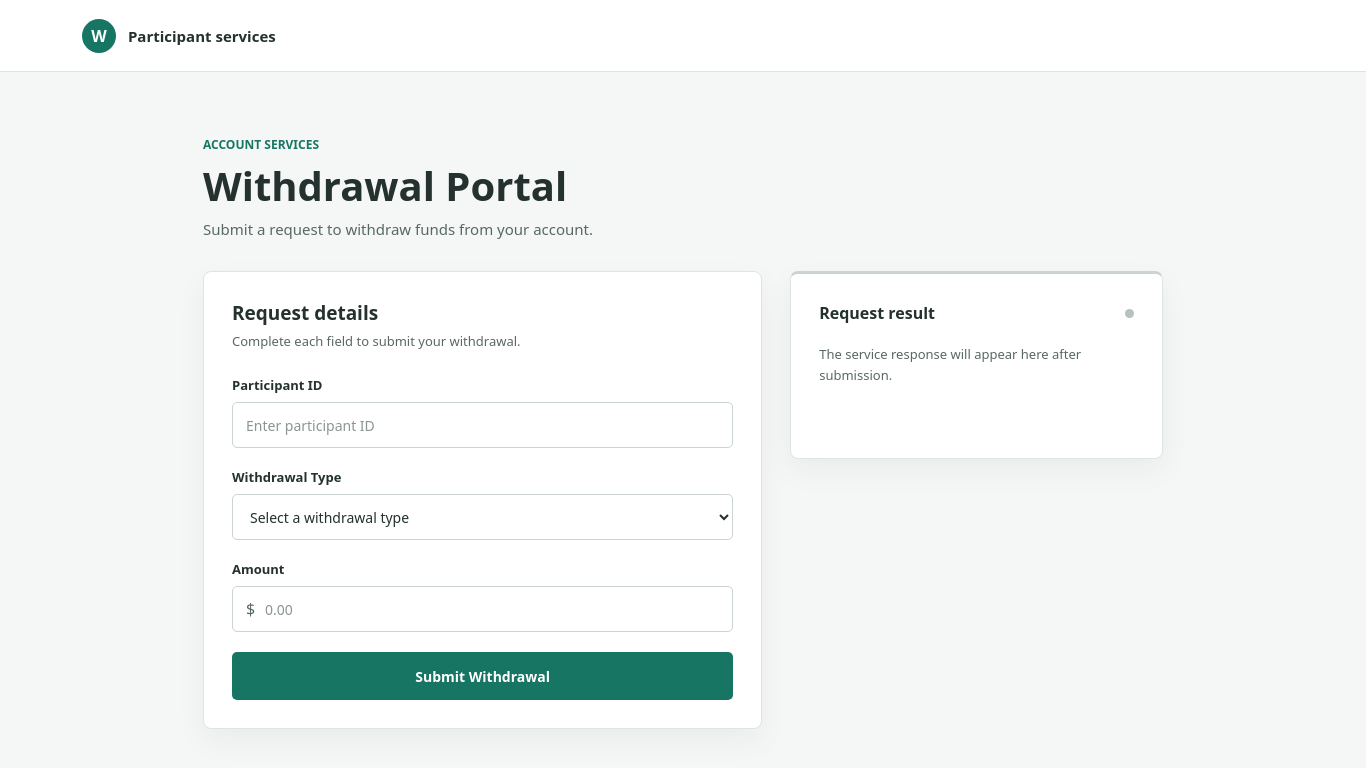
Scenario: App › shows the service message when the request is rejected
Type "P1006" into the field labelled "Participant ID" at (483, 425), box top-left (232, 402), bottom-right (733, 448)
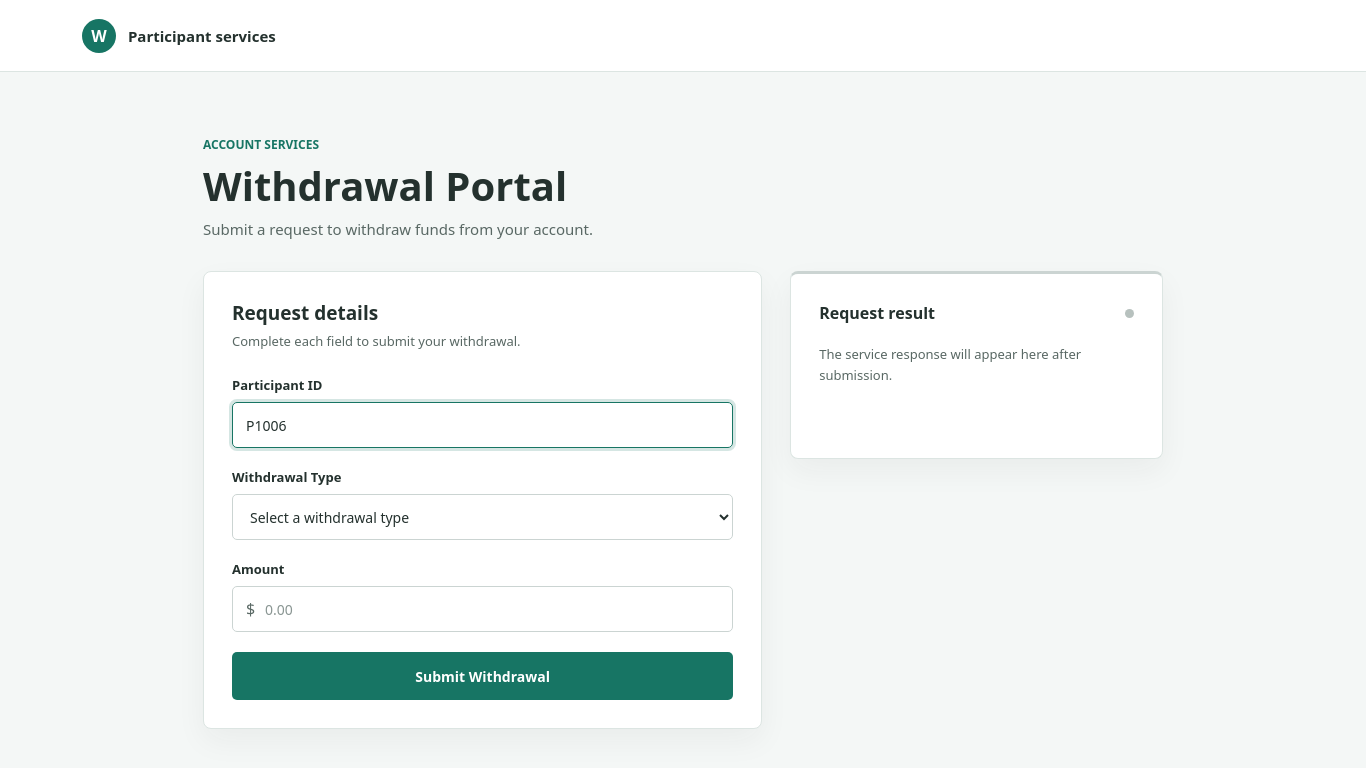
Select "PARTIAL" in the dropdown labelled "Withdrawal Type" at (483, 517), box top-left (232, 494), bottom-right (733, 540)
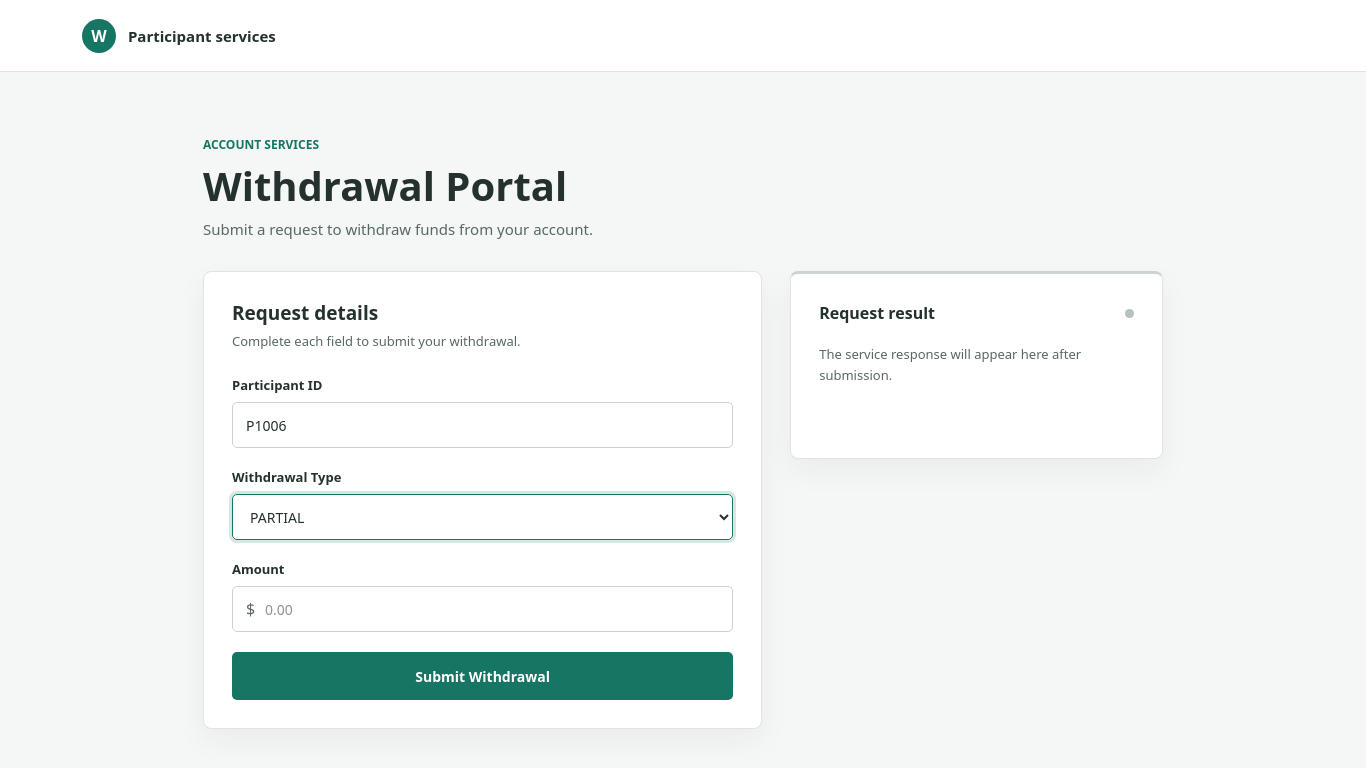
Type "50" into the number field labelled "Amount" at (483, 609), box top-left (232, 586), bottom-right (733, 632)
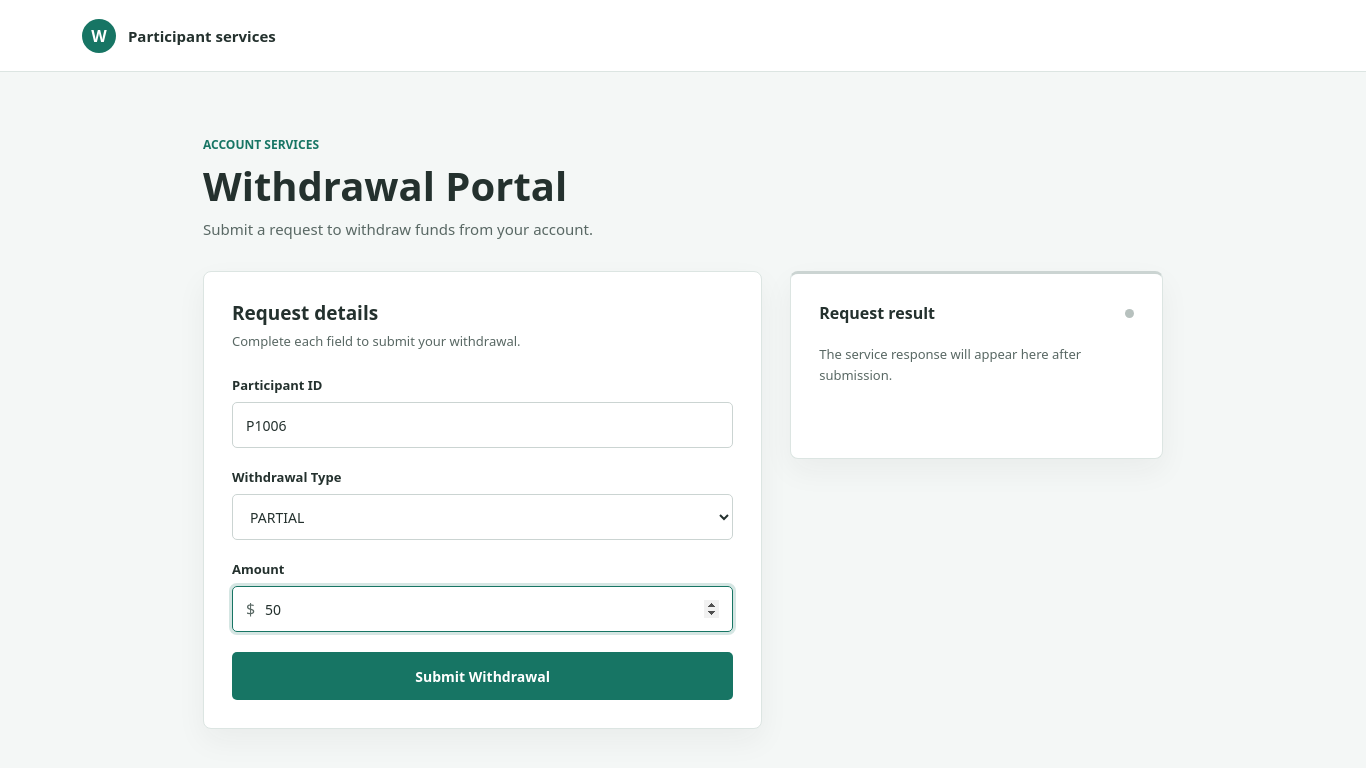
Click the button "Submit Withdrawal" at (483, 676), box top-left (232, 652), bottom-right (733, 700)
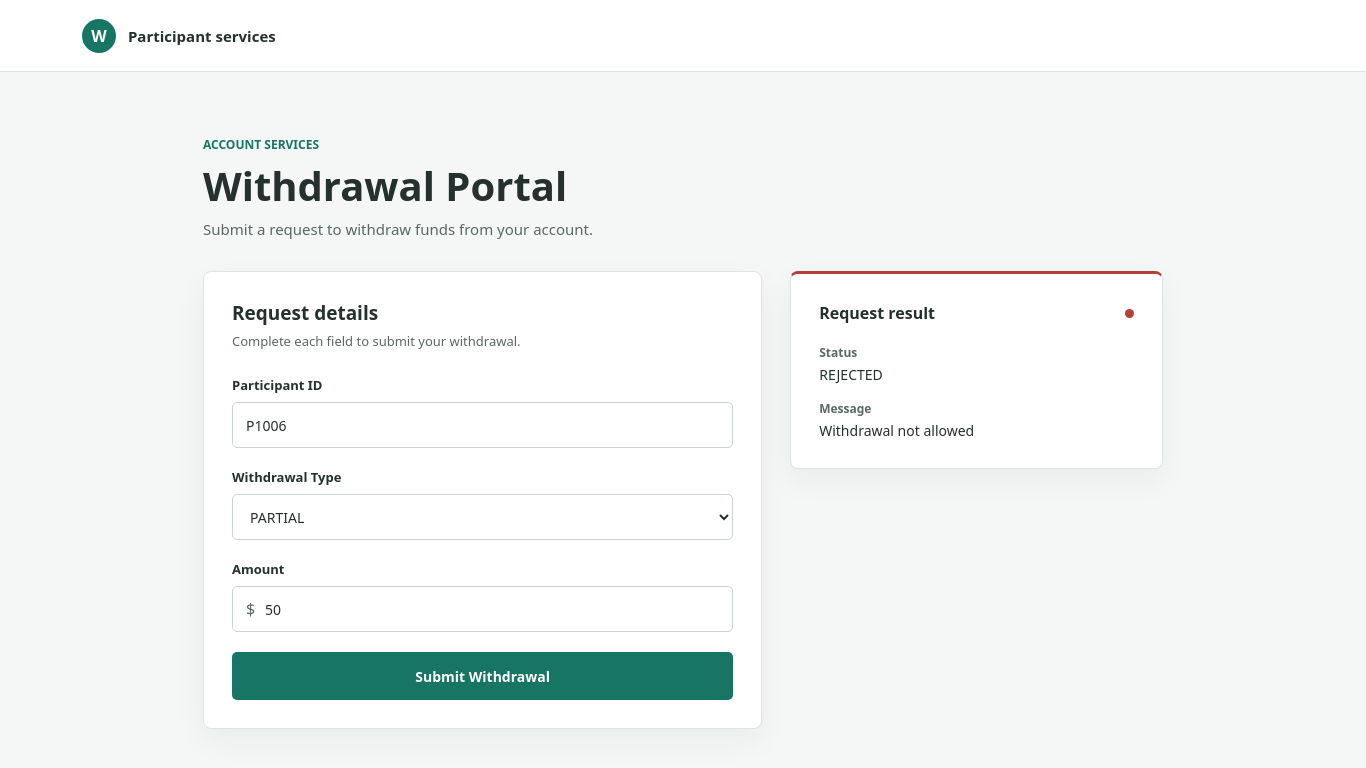
Expected: the text "Withdrawal not allowed" is shown, top-left (819, 421), bottom-right (974, 440)
Expected: the text "REJECTED" is shown, top-left (819, 365), bottom-right (883, 384)
